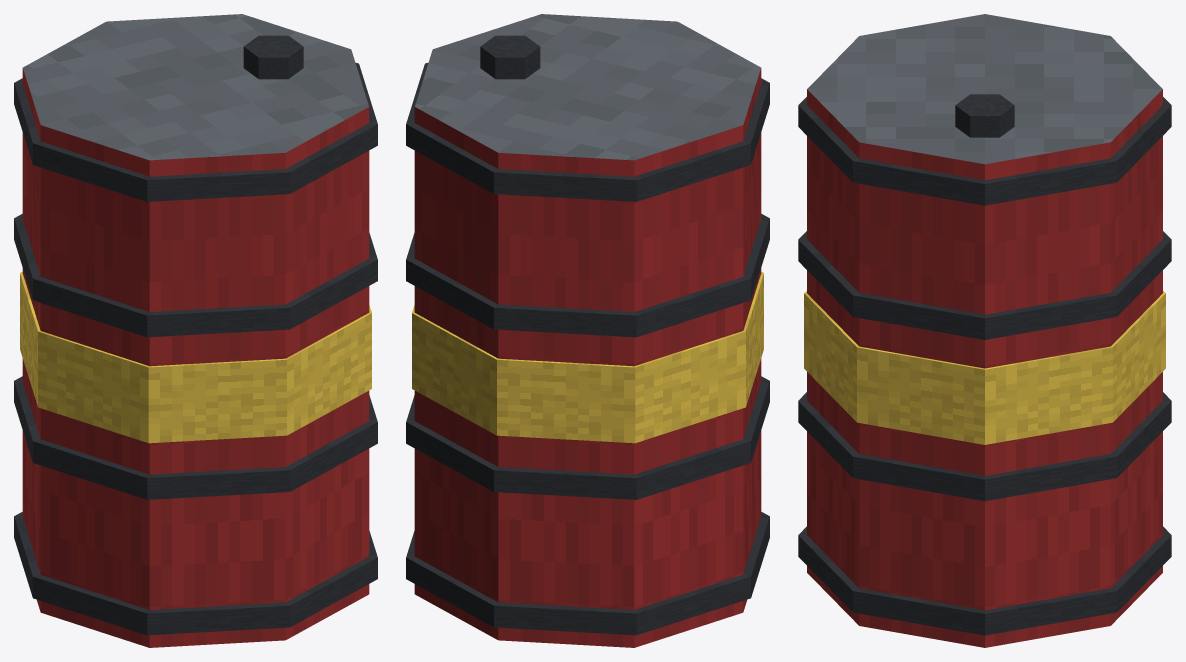
The model's file is barrel_explosive.glb.
3 renders of one model, left to right at view 1: azimuth 30°, elevation 25°; view 2: azimuth 150°, elevation 25°; view 3: azimuth 270°, elevation 25°, orthographic.
Parts seen in each view (by area): view 1: barrel_explosive; view 2: barrel_explosive; view 3: barrel_explosive.
Boxes of the visible parts, x1=… form: barrel_explosive: x1=14, y1=14, x2=377, y2=647; barrel_explosive: x1=406, y1=14, x2=769, y2=647; barrel_explosive: x1=798, y1=14, x2=1171, y2=647.
Size of the model in its own units: 0.63 by 0.94 by 0.63.
Materials: 1 (1 with a texture image).
